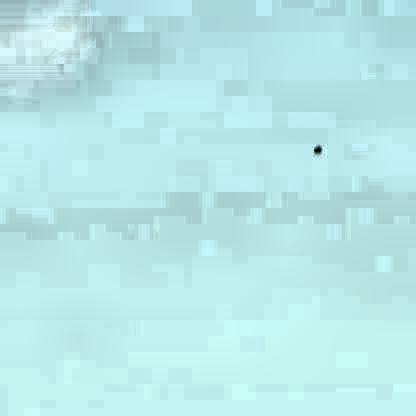golfball: (309, 141, 319, 151)
